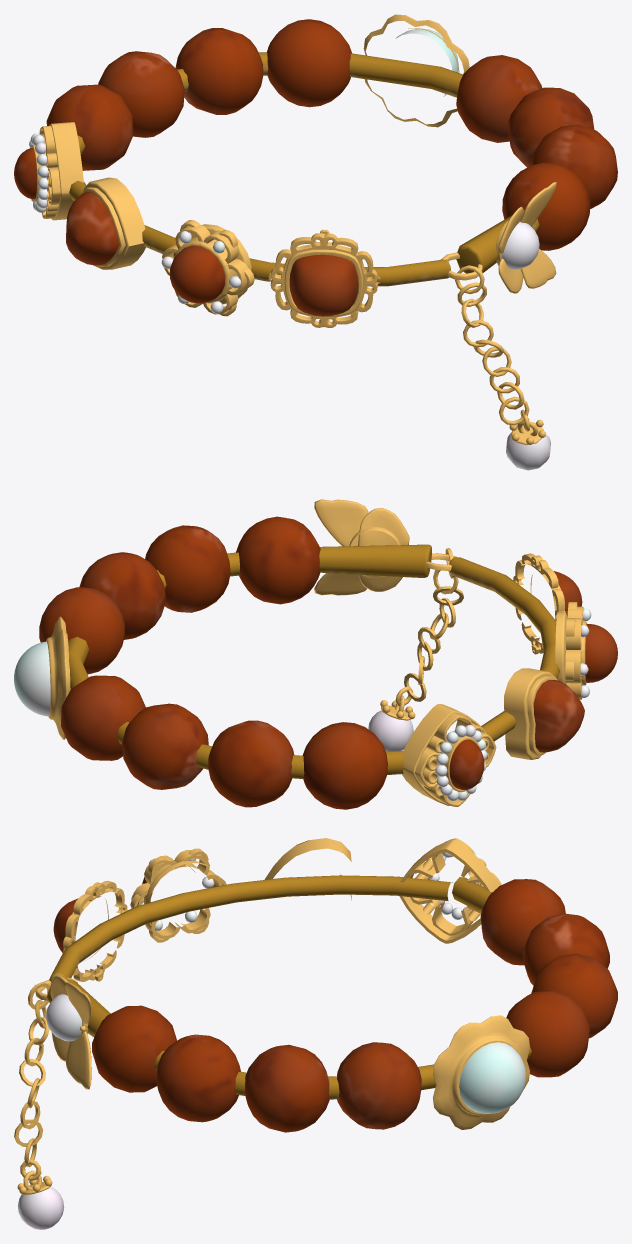
The model's file is Bracelet_01.glb.
3 renders of one model, top to bottom at view 1: azimuth 30°, elevation 25°; view 2: azimuth 150°, elevation 25°; view 3: azimuth 270°, elevation 25°, orthographic.
Visible parts, largest first — view 1: Part5, Part3, Part11, Part12, Part4, Part10, Part13, Part6, Part14, Part9, sweep2, Part8 (+6 smaller); view 2: Part6, Part14, Part13, Part9, Part12, sweep2, Part4, Part8, Part11, Part1, Part10, Part7 (+6 smaller); view 3: Part2, sweep1, Part7, Part10, Part8, Part9, Part11, Part14, Part6, Part12, Part1, Part13 (+6 smaller).
Part boxes in pixels (x1,y1,x2,y2): Part5: (268,229,380,327); Part3: (161,220,254,316); Part11: (266,19,352,107); Part12: (175,28,263,114); Part4: (66,177,145,269); Part10: (456,55,542,142); Part13: (98,51,184,137); Part6: (14,122,83,220); Part14: (46,84,133,170); Part9: (502,162,590,250); sweep2: (77,52,539,273); Part8: (531,124,617,209); Part6: (402,704,496,806); Part14: (302,722,387,809); Part13: (208,720,294,807); Part9: (236,516,320,604); Part12: (122,703,208,789); sweep2: (68,544,436,779); Part4: (504,668,584,759); Part8: (145,525,230,612); Part11: (61,675,145,760); Part1: (314,499,409,595); Part10: (39,587,124,674); Part7: (79,552,165,639); Part2: (432,1015,529,1129); sweep1: (49,875,452,983); Part7: (244,1044,329,1132); Part10: (337,1042,421,1129); Part8: (156,1034,240,1122); Part9: (92,1005,176,1092); Part11: (506,991,589,1077); Part14: (480,879,565,965); Part6: (399,838,501,943); Part12: (531,953,617,1038); Part1: (46,975,91,1089); Part13: (522,913,609,985).
Bounding box in the file's own units: 13.14 × 6.49 × 13.58.
Materials: 1 (1 with a texture image).
